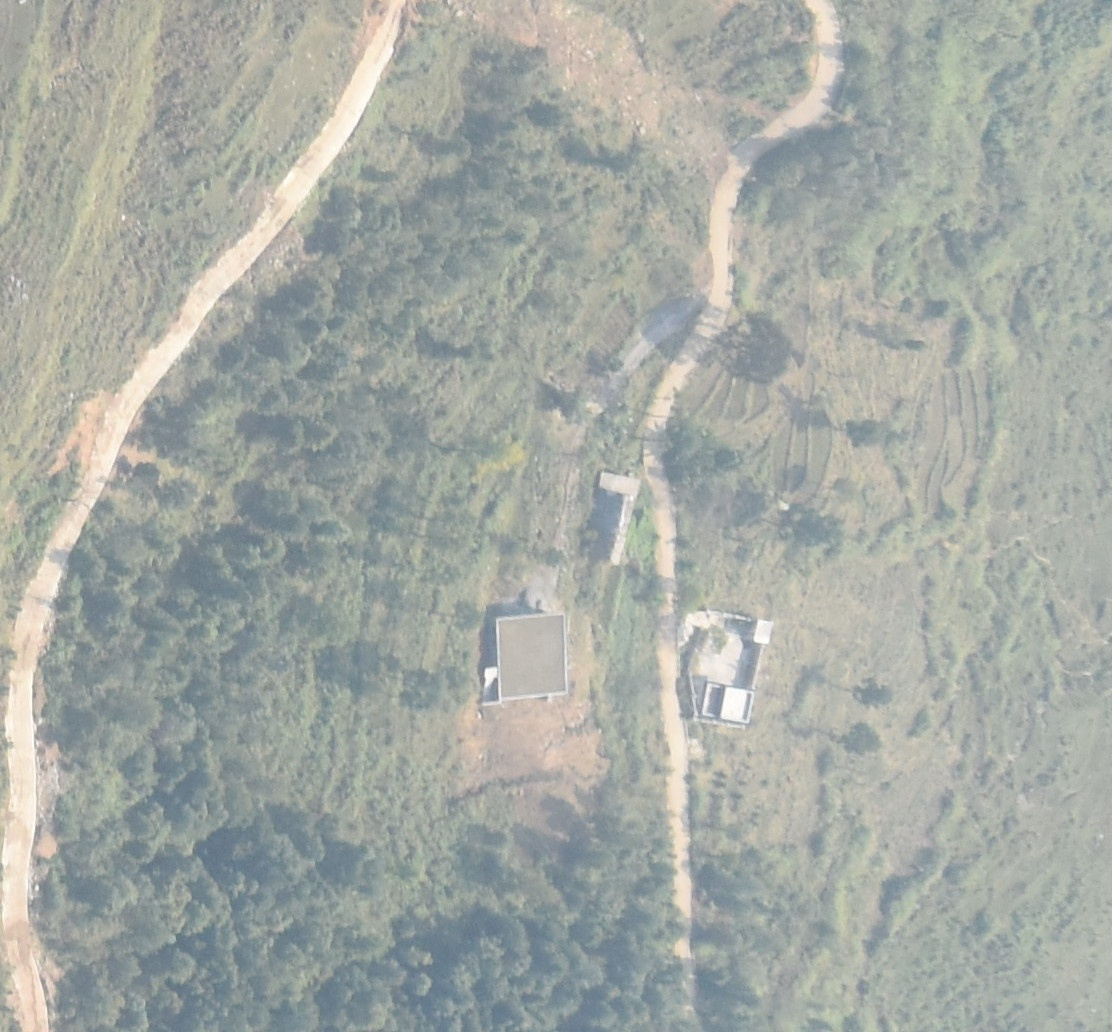building: (686, 613, 772, 728), (493, 613, 573, 703), (597, 469, 641, 567)
